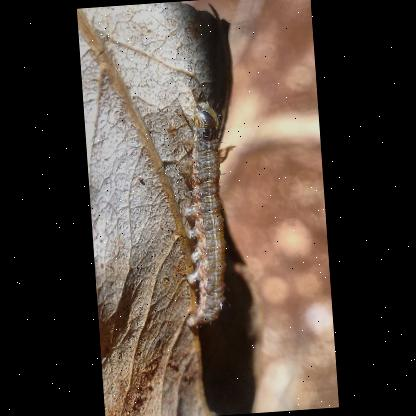Fall Armyworm Larvae: (169, 98, 242, 333)
